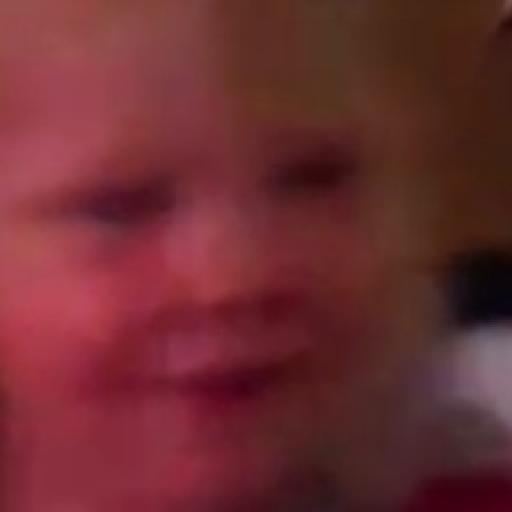Autism: (6, 14, 459, 480)
